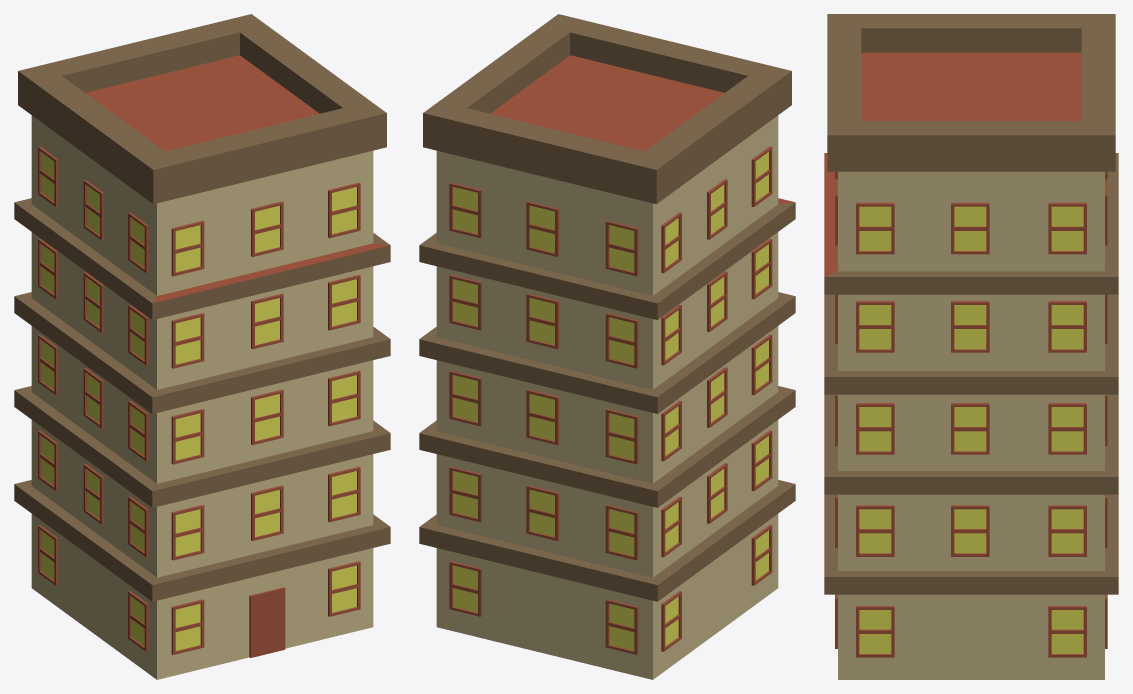
Rendered from Target_Building_12.FBX.
3 views of the same model, side by side, from view 1: azimuth 30°, elevation 25°; view 2: azimuth 150°, elevation 25°; view 3: azimuth 270°, elevation 25° (orthographic). The views are drawn at different scales.
Visible parts, largest first — view 1: Object007; view 2: Object007; view 3: Object007.
Boxes of the visible parts, x1,y1,x2,y2 form: Object007: (14, 14, 390, 679); Object007: (419, 14, 795, 679); Object007: (824, 14, 1118, 679).
Bounding box in the file's own units: 292 × 605 × 294.
